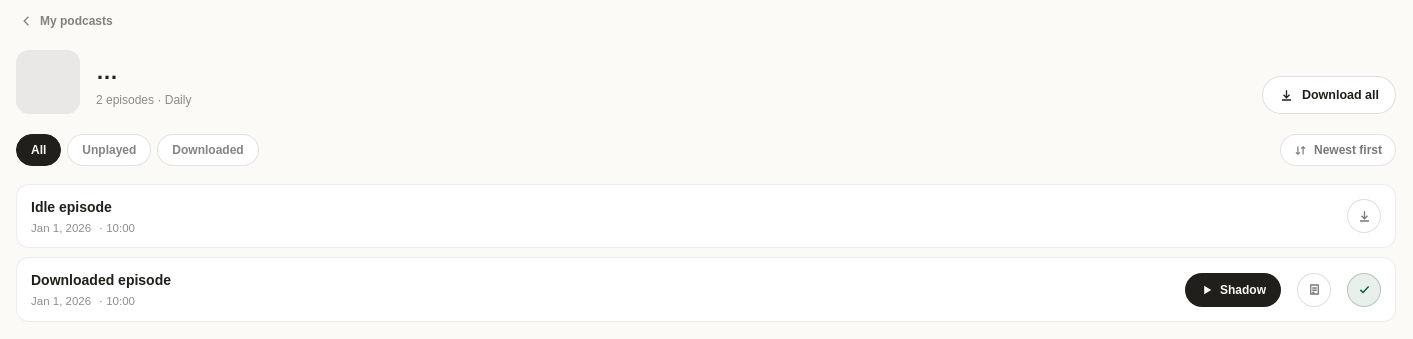
Test case: Episodes › re-fetches from the API when the filter changes
Check: the text "Idle episode" is shown, box [31,199,112,215]
Check: the text "Downloaded episode" is shown, box [31,272,171,288]
Click the button "Downloaded": (208, 150) [157,134,259,166]
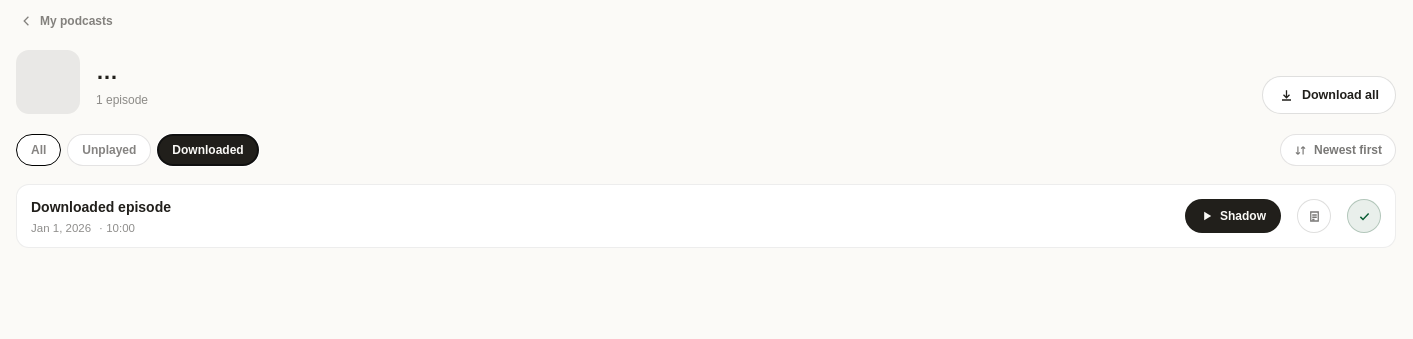
Check: the text "Downloaded episode" is shown, box [31,199,171,215]
Check: the text "Idle episode" is gone
